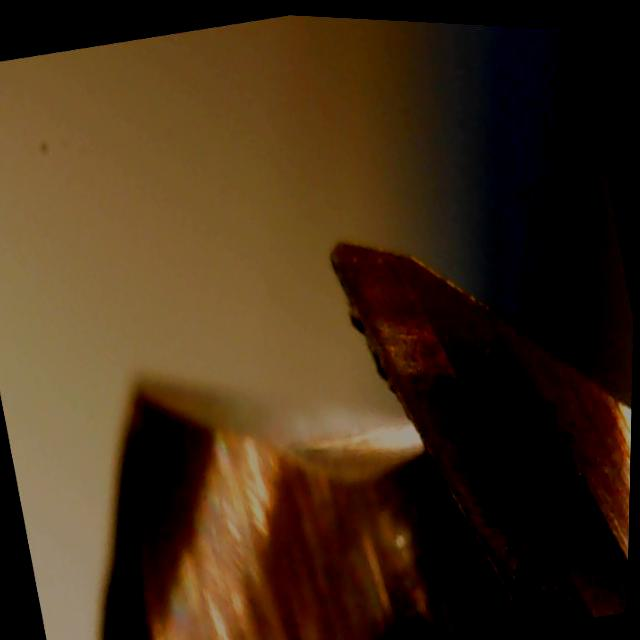Tool-wear-class-1: (297, 202, 529, 466)
